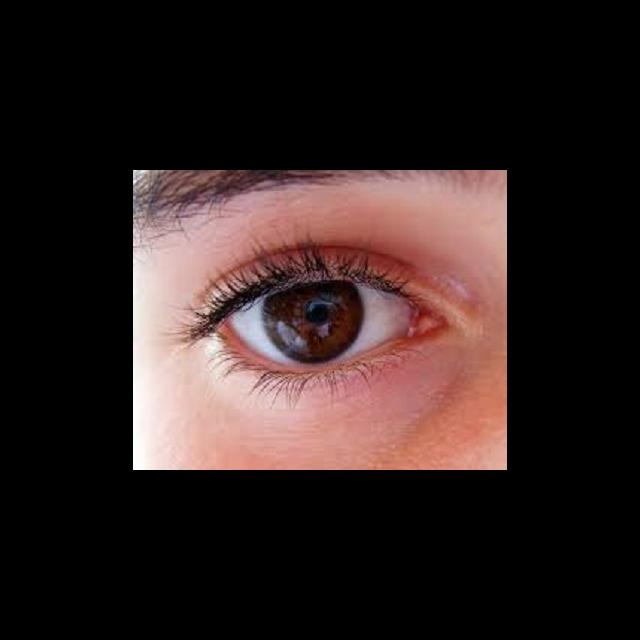eye: (221, 280, 409, 367)
iris: (263, 282, 362, 361)
